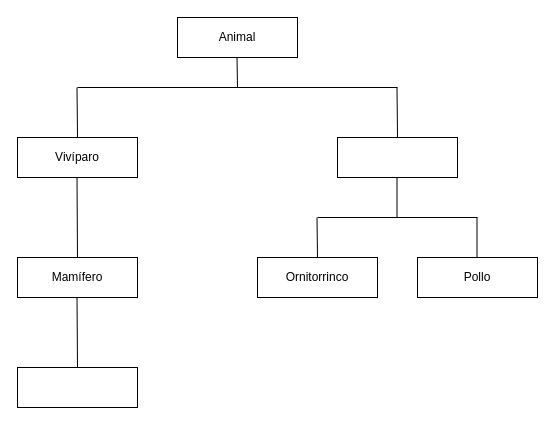
The diagram is 555 pixels wide and 425 high, and some of its shapes have lost their labels. Here are the shapes that lost their labels. From the top down, the centre of each, then its label:
the point at 397,157: Ovíparo
the point at 77,387: Gato
